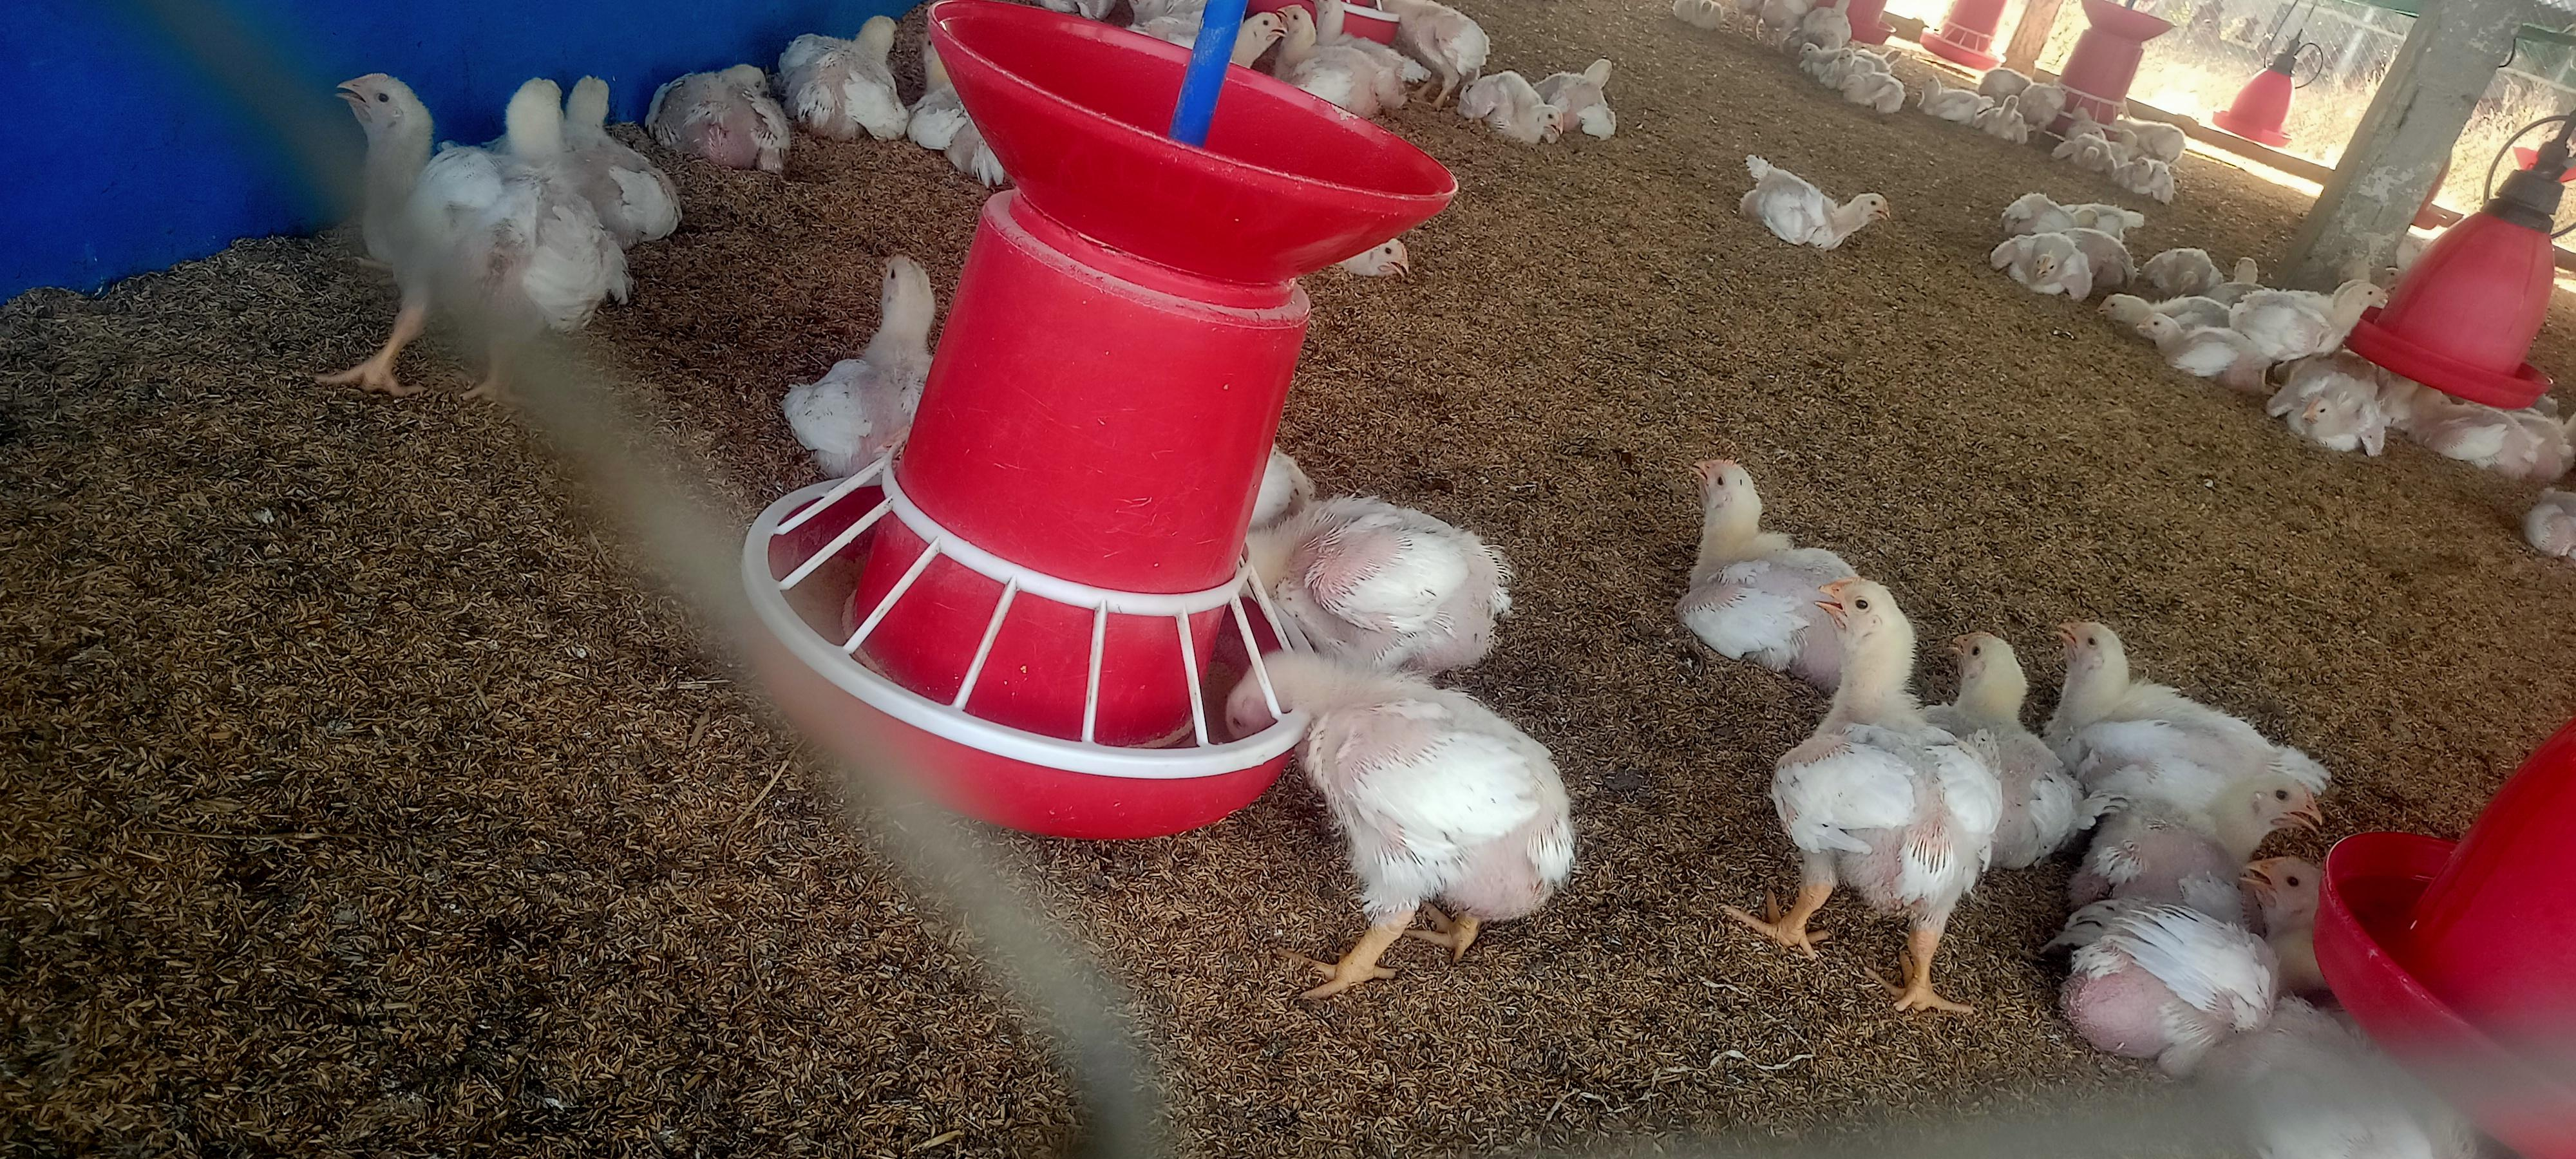Pollos: (1239, 655, 1584, 924), (329, 57, 613, 348), (1778, 579, 2004, 926), (2044, 607, 2331, 811), (798, 254, 948, 466), (1676, 447, 1797, 655), (1733, 148, 1884, 254), (2233, 269, 2395, 355), (2269, 360, 2399, 461), (1986, 230, 2103, 305)
